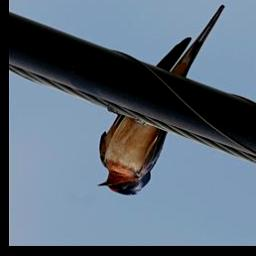Swallow: (96, 5, 225, 198)
